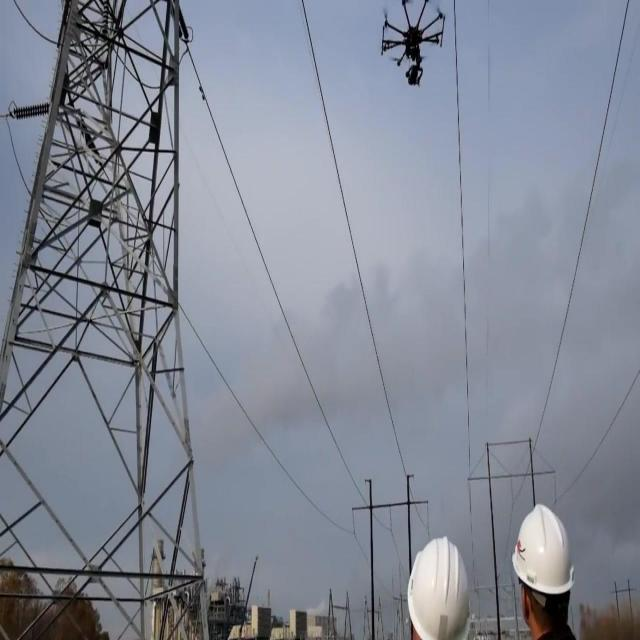UAV: (381, 0, 445, 87)
